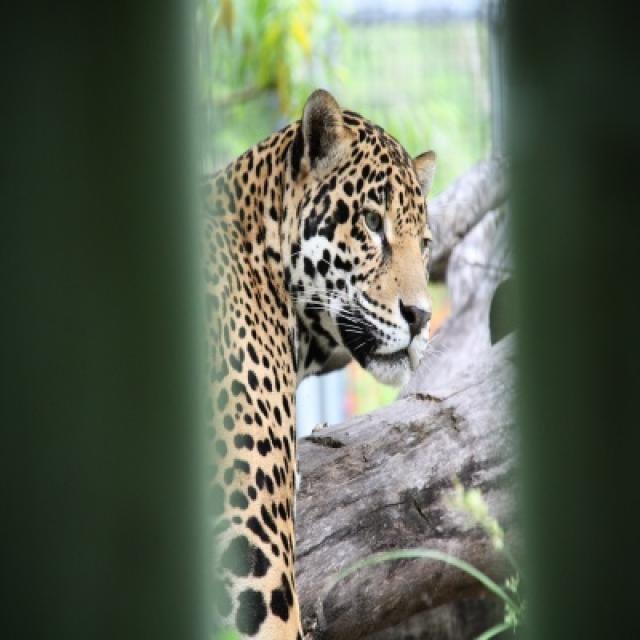Jaguar: (203, 90, 434, 638)
